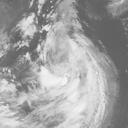cyclone: (39, 38, 98, 103)
